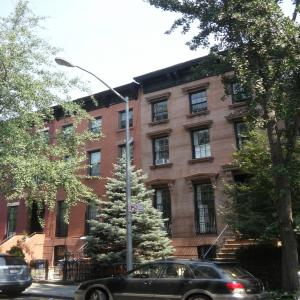Vehicle-registration-plate: (9, 270, 20, 274)
